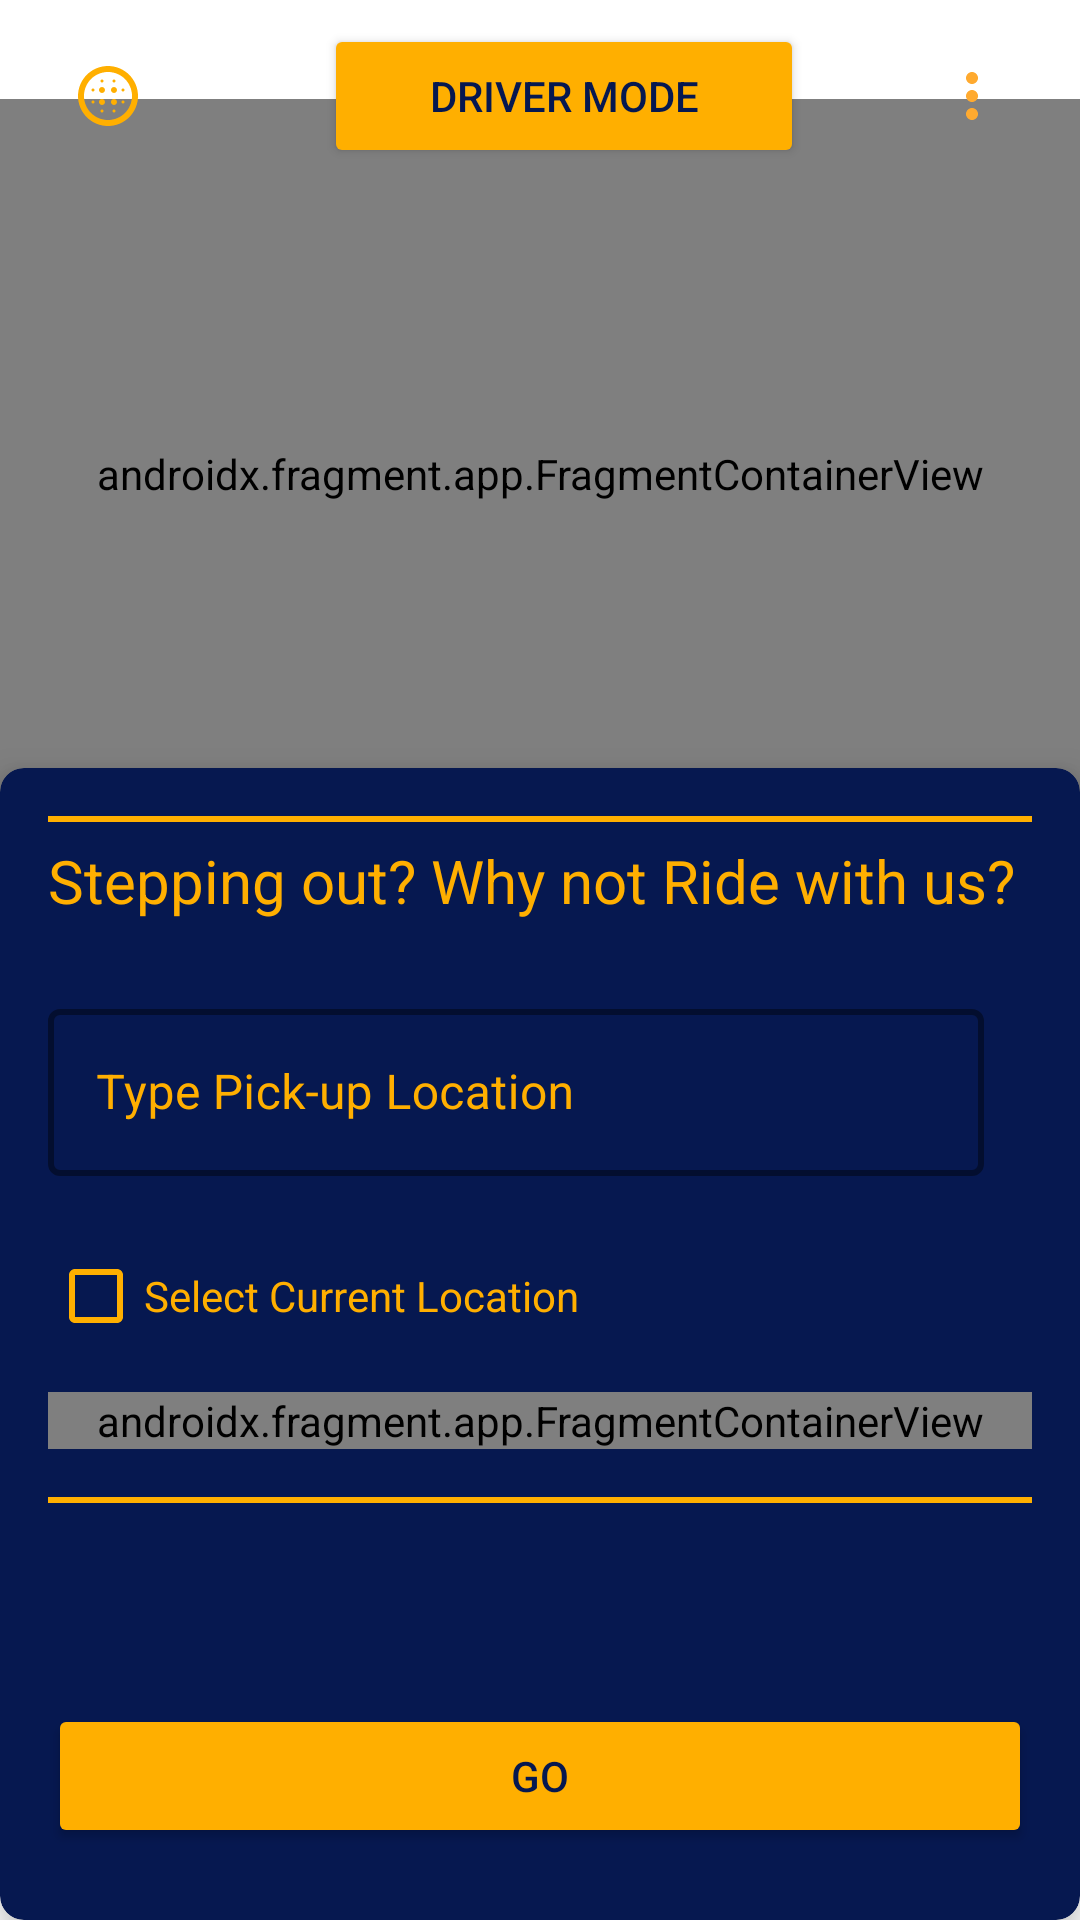

Where to tap for icons on this 1080 x 1920 app screen, as point (x, y):
blur circular: point (108, 96)
